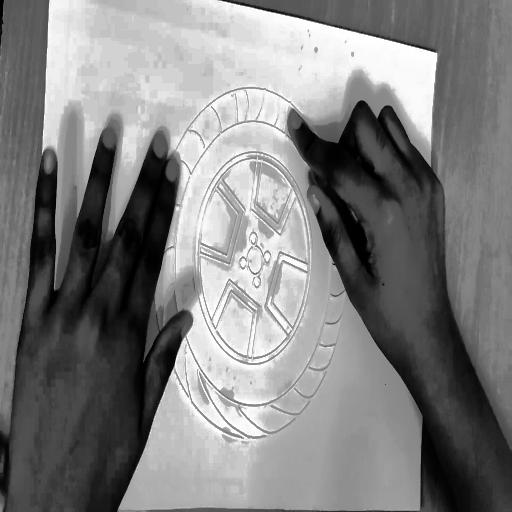tire: (132, 56, 370, 477)
top_right: (432, 44, 442, 60)
